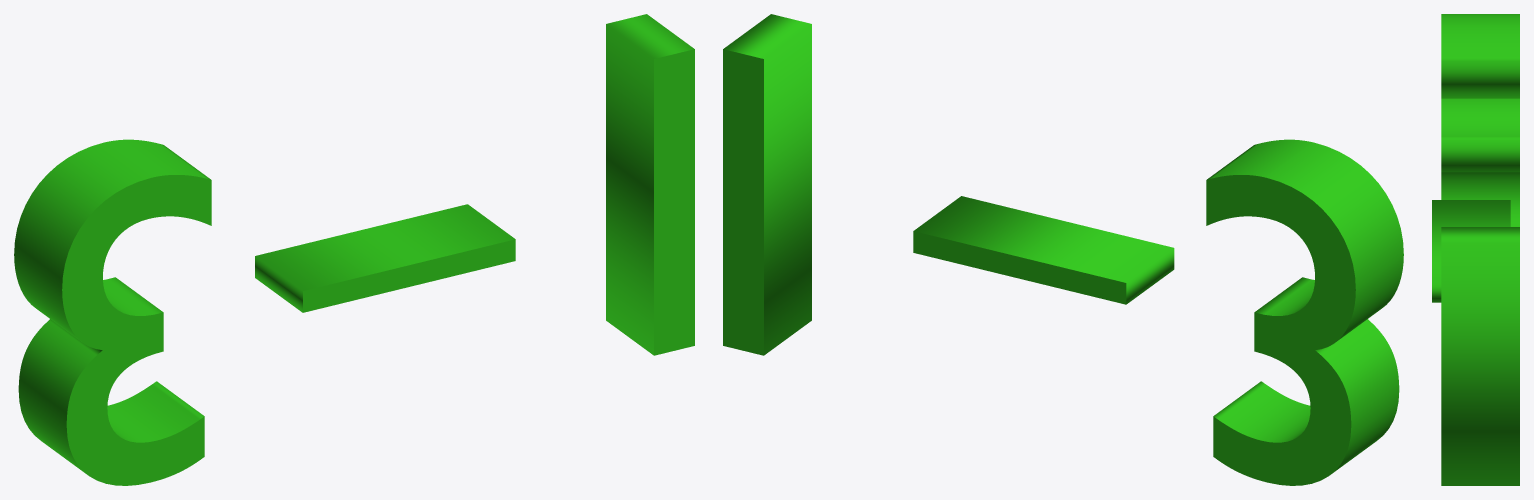
3 renders of one model, left to right at view 1: azimuth 30°, elevation 25°; view 2: azimuth 150°, elevation 25°; view 3: azimuth 270°, elevation 25°, orthographic. The views are drawn at different scales.
Parts seen in each view (by area): view 1: テキスト, テキスト.001; view 2: テキスト, テキスト.001; view 3: テキスト, テキスト.001.
Boxes of the visible parts, left/top/right/bottom form: テキスト: left=14, top=14, right=694, bottom=485; テキスト.001: left=255, top=204, right=515, bottom=312; テキスト: left=723, top=14, right=1403, bottom=485; テキスト.001: left=913, top=196, right=1174, bottom=304; テキスト: left=1441, top=14, right=1519, bottom=485; テキスト.001: left=1432, top=200, right=1510, bottom=302.
Bounding box in the file's own units: 1.52 × 0.7 × 0.2233.
